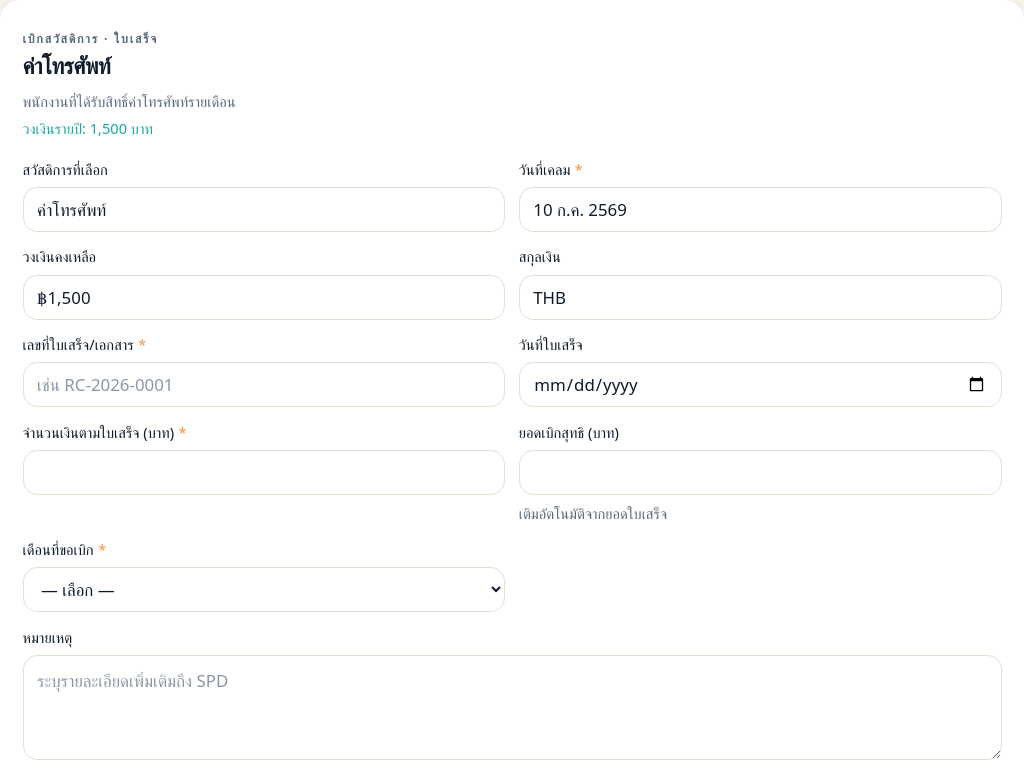
it: STA-184 — SimpleClaimForm submit preview (confirmBeforeSubmit) › opens the preview modal instead of submitting when confirmBeforeSubmit is set
Type "RC-184" into the field labelled "เลขที่ใบเสร็จ/เอกสาร*" at x=264, y=385, box [22, 362, 505, 407]
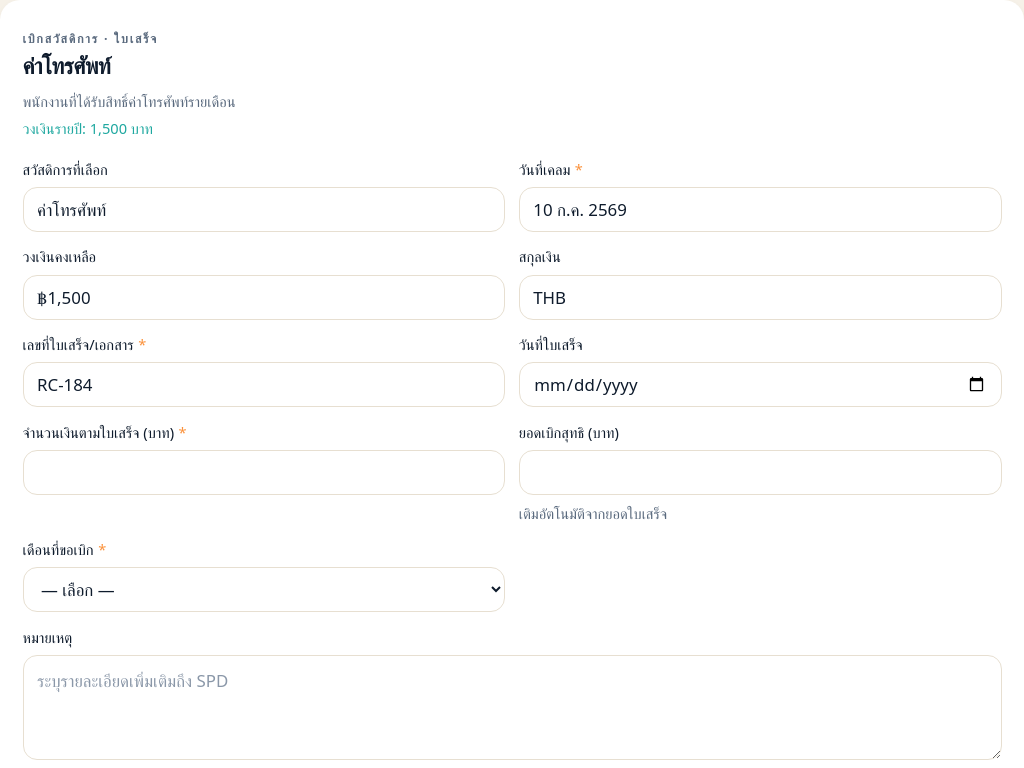
Type "300" into the field labelled "จำนวนเงินตามใบเสร็จ (บาท)*" at x=264, y=472, box [22, 450, 505, 495]
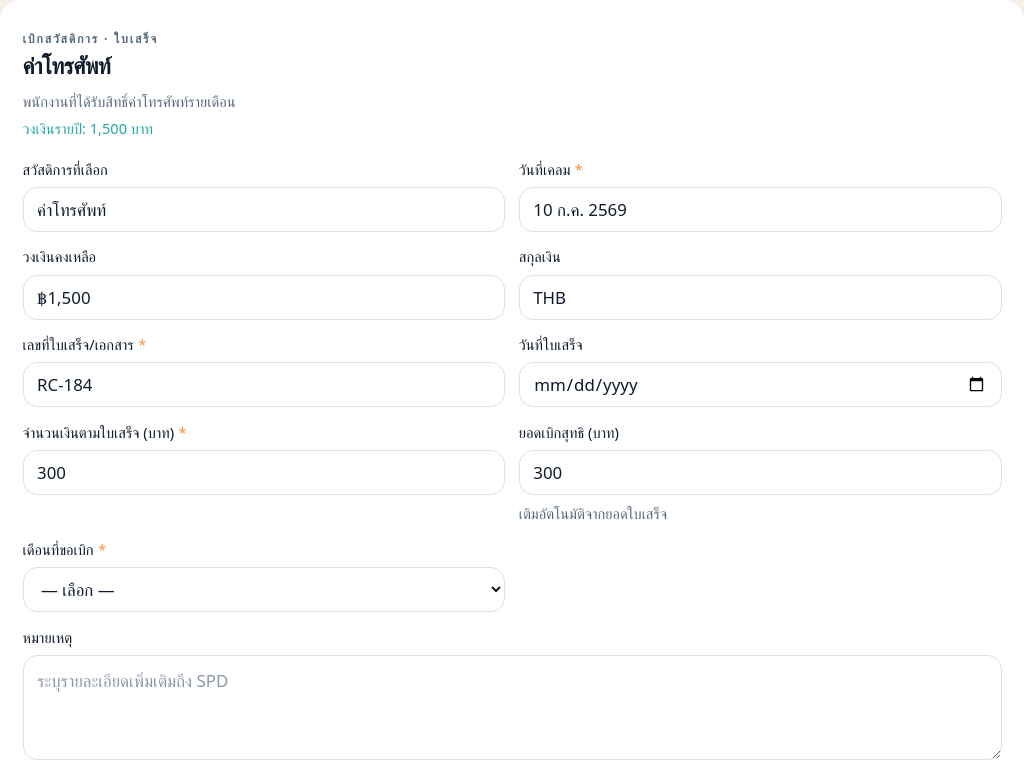
Select "พฤษภาคม" in the dropdown labelled "เดือนที่ขอเบิก*" at x=264, y=590, box [22, 567, 505, 612]
(page scrolled)
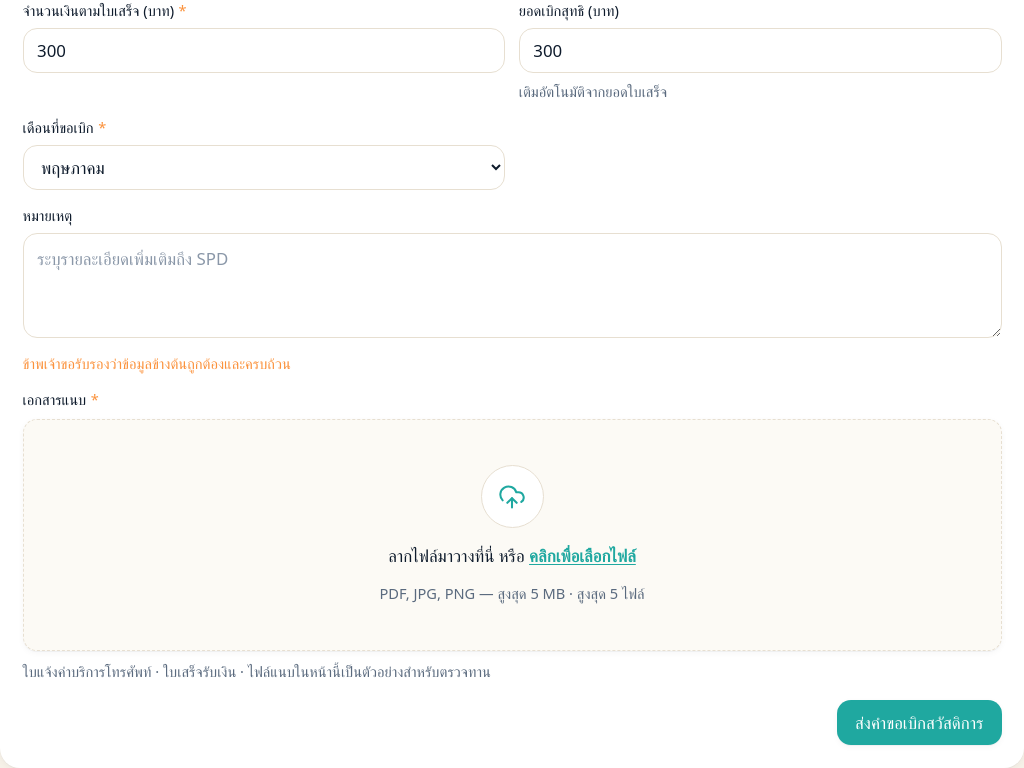
Click the button "ส่งคำขอเบิกสวัสดิการ" at x=919, y=723, box [837, 700, 1002, 745]
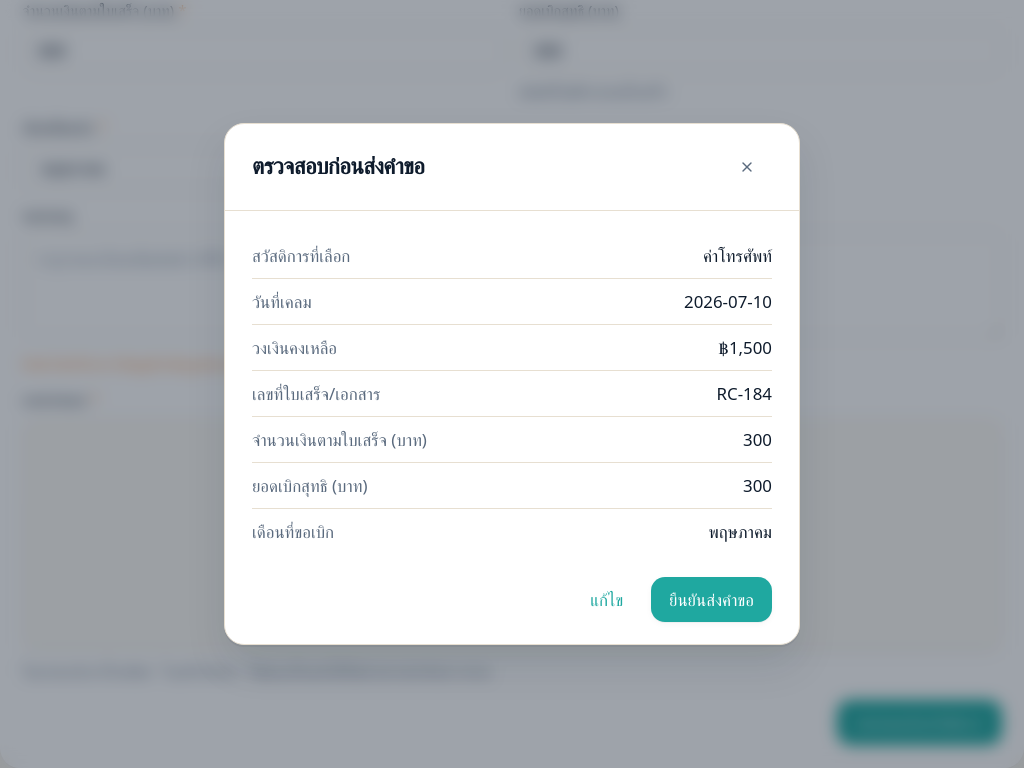
Now the heading "ตรวจสอบก่อนส่งคำขอ" is shown, box [252, 151, 424, 182]
Now the text "RC-184" is shown, box [716, 380, 772, 407]
